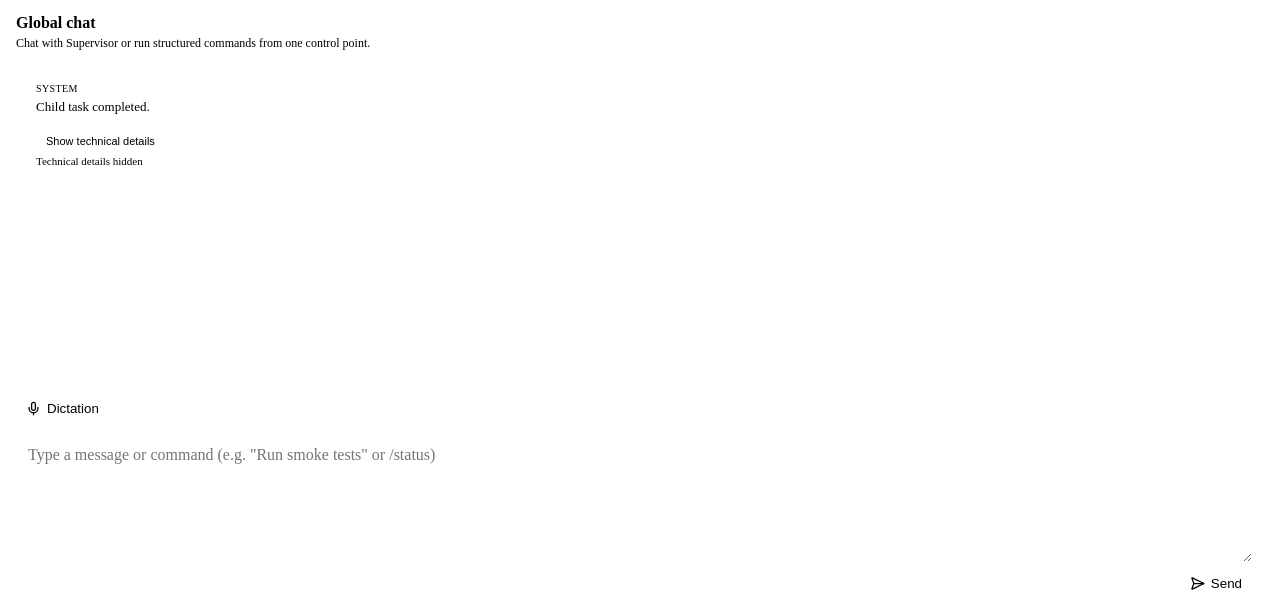
Test: SupervisorChat › collapses technical system details until expanded
Expected: the text "Child task completed." is shown, [36,99,150,114]
Expected: the text "Technical details hidden" is shown, [36,155,143,167]
Click the button "Show technical details": (100, 141) [36,133,165,149]
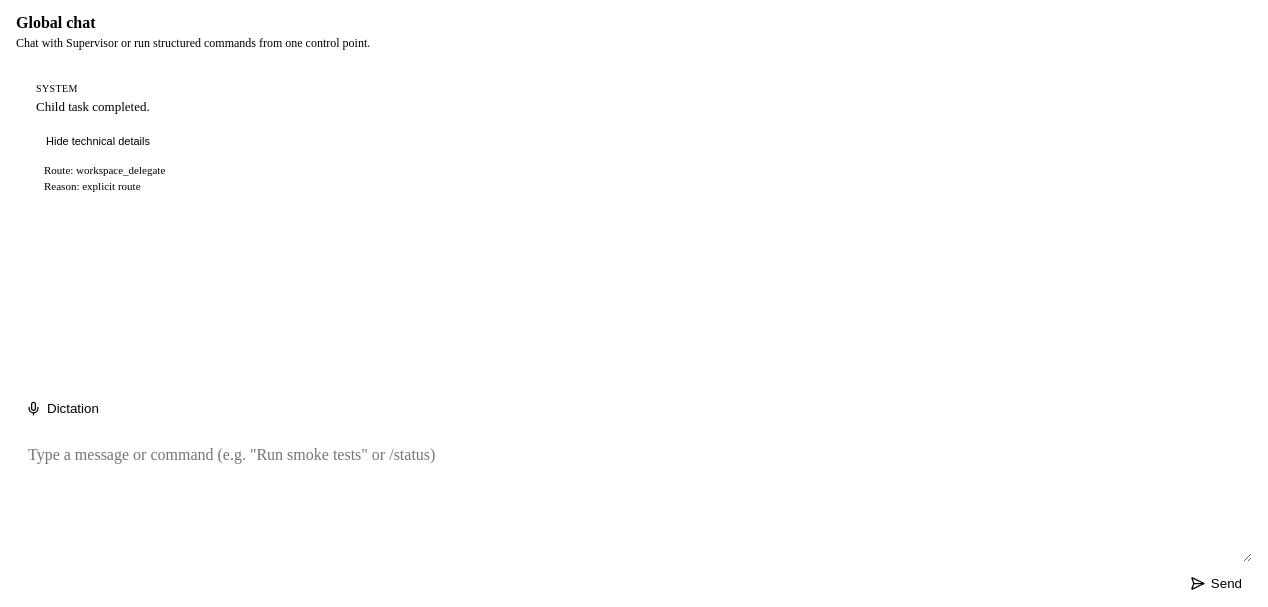
Now the text "Route: workspace_delegate Reason: explicit route" is shown, box [44,164,165,192]
Now the button "Hide technical details" is shown, box [36,133,160,149]
